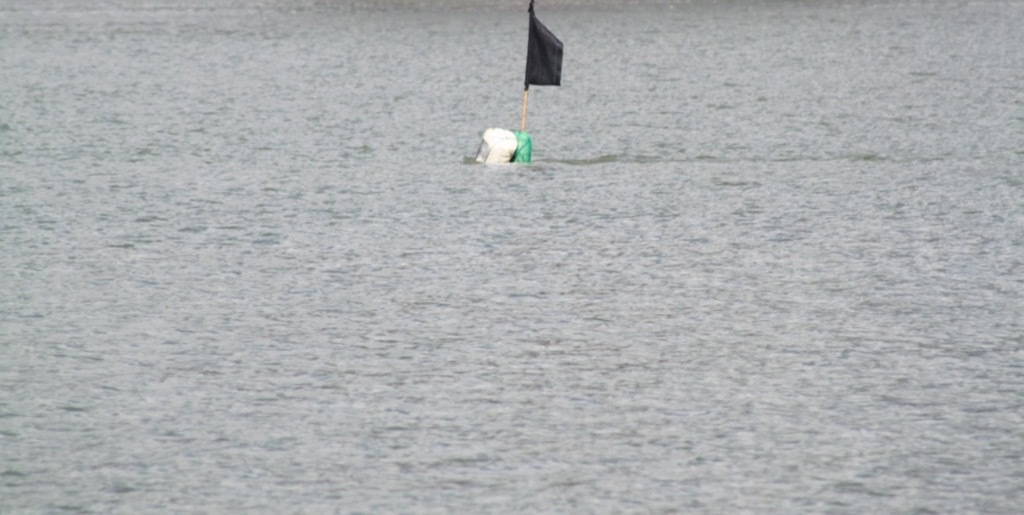structure: (446, 1, 594, 186)
